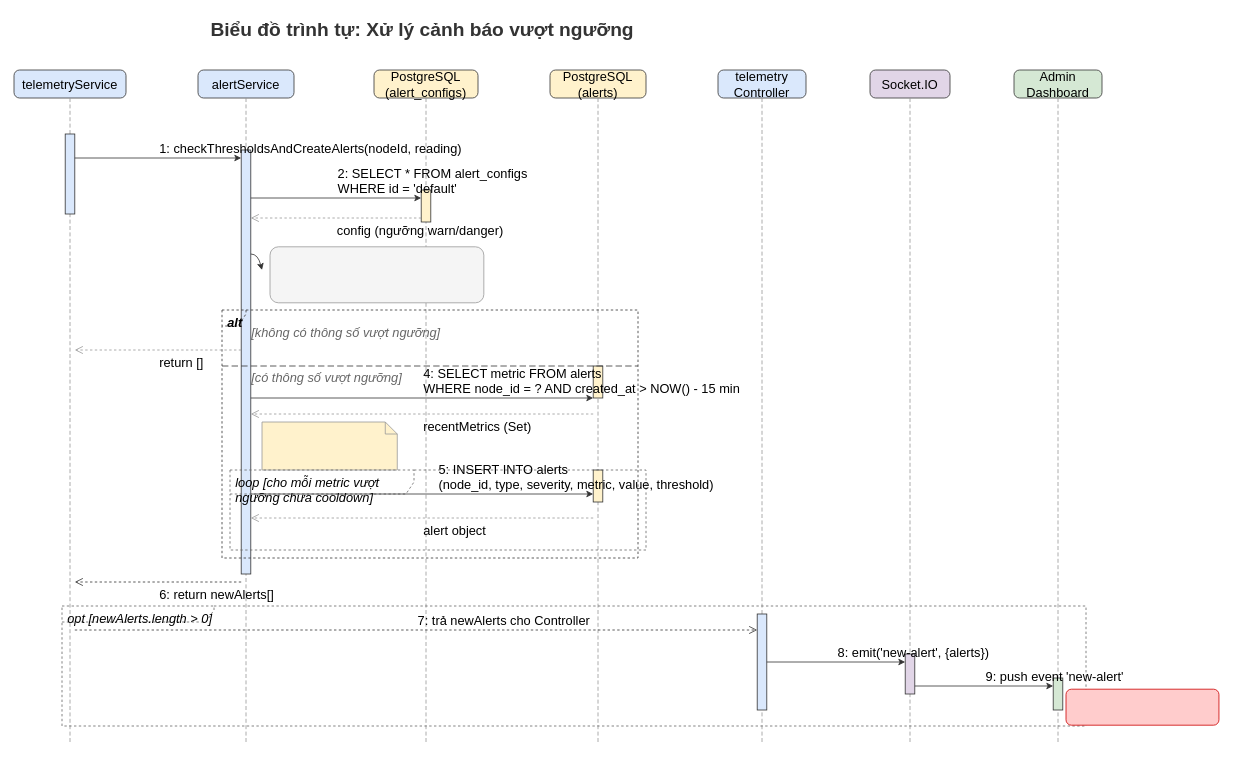
Image size: 1234x757. Some labels were removed from this diagram. Here are the shapes that lost their labels. From the top down, the centre of each, then its label:
(x=376, y=274): 3: So sánh 5 thông số (PM2.5, PM10, CO₂, TVOC, Temp) với ngưỡng warn/danger
(x=329, y=445): Cooldown 15 phút: nếu metric đã có alert gần đây → bỏ qua
(x=1142, y=706): 10: Hiển thị cảnh báo mới trên Admin Dashboard
